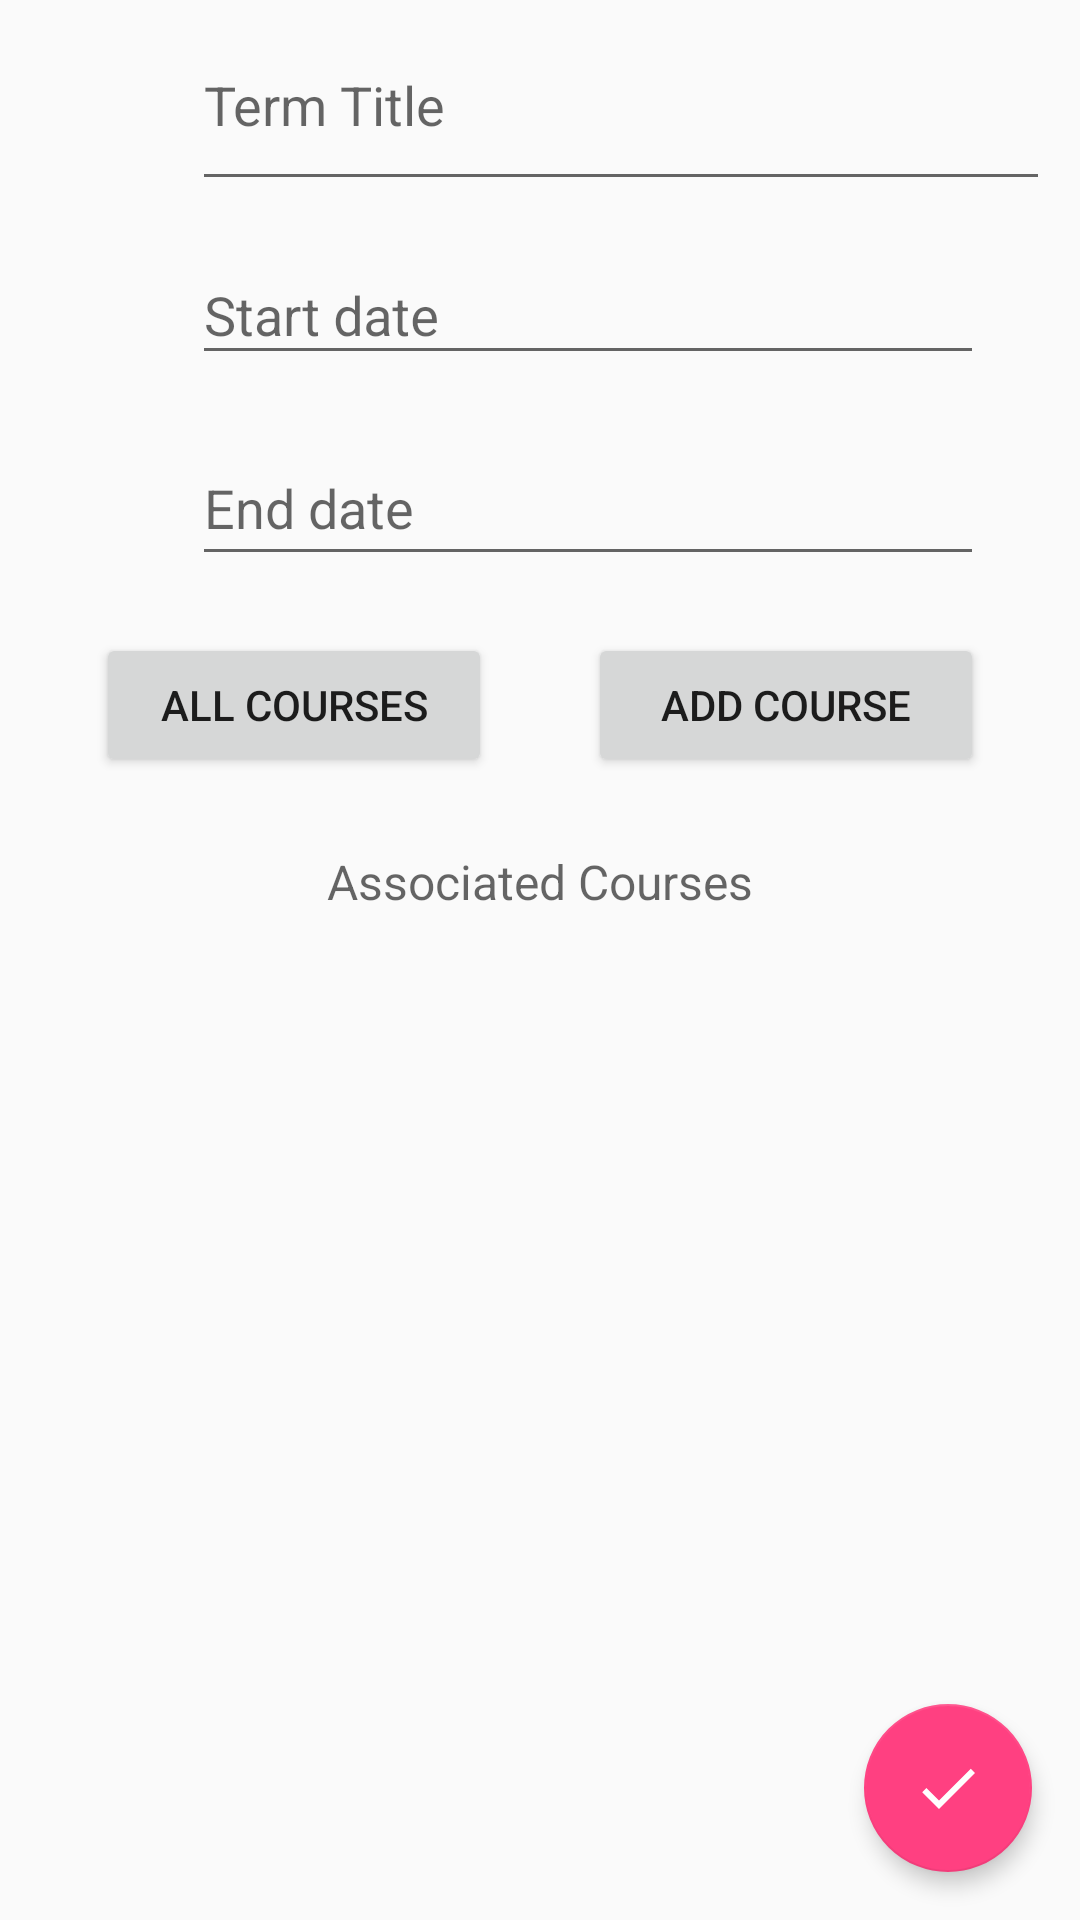

Icons on this 1080px×1920px Android screen, each with its box as Rect(x1, y1, x2, y2):
done: Rect(864, 1704, 1032, 1872)
